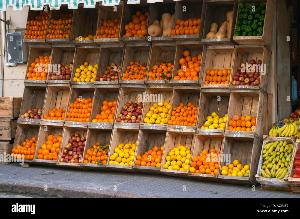apple: (232, 48, 262, 86), (116, 90, 144, 122), (48, 48, 74, 82), (62, 127, 84, 161), (98, 49, 120, 81), (20, 86, 42, 118)
banana: (256, 139, 292, 183), (266, 121, 300, 137)
bell_pepper: (236, 2, 266, 36)
orange: (226, 93, 262, 133), (188, 134, 222, 174), (136, 128, 164, 170), (202, 48, 232, 86), (169, 89, 199, 127), (146, 44, 176, 82), (171, 2, 203, 36), (220, 144, 252, 176), (176, 44, 200, 86), (12, 126, 40, 162), (83, 130, 111, 166), (110, 131, 138, 167), (34, 126, 64, 158), (121, 4, 149, 38), (164, 138, 192, 172), (64, 92, 92, 124), (198, 104, 228, 132), (25, 48, 51, 80), (92, 90, 116, 124), (122, 47, 146, 81), (42, 87, 64, 123), (74, 50, 98, 82), (49, 10, 74, 40), (142, 97, 170, 123), (74, 9, 96, 41), (98, 7, 120, 37), (26, 11, 48, 39)
